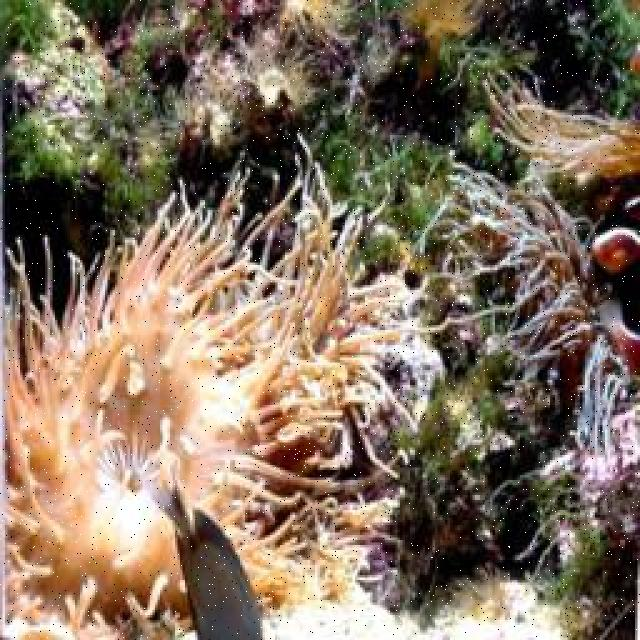aquatic plants: (321, 99, 456, 274), (8, 87, 186, 211), (515, 481, 638, 638), (0, 0, 53, 69), (451, 104, 507, 167)
fish: (149, 479, 266, 638), (566, 180, 638, 375)
reefs: (1, 180, 341, 635), (210, 134, 457, 479), (419, 150, 600, 365), (481, 67, 638, 185), (534, 336, 638, 512), (291, 496, 405, 601), (227, 43, 326, 133), (401, 0, 482, 78)
